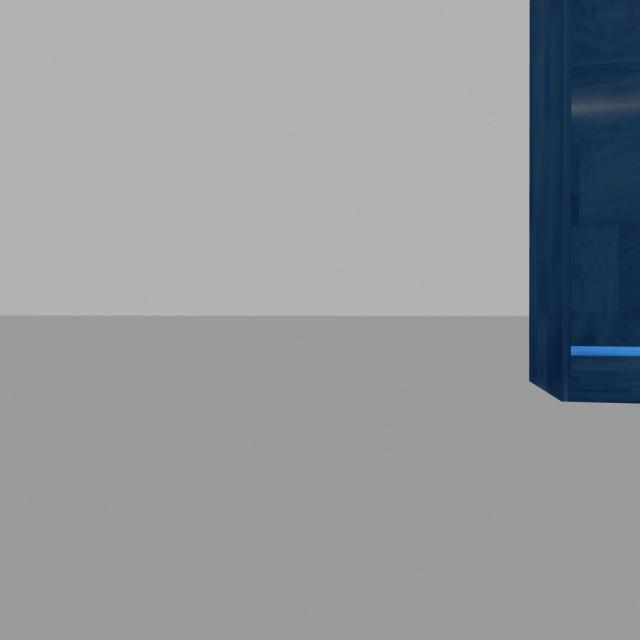shelf: (514, 1, 640, 417)
